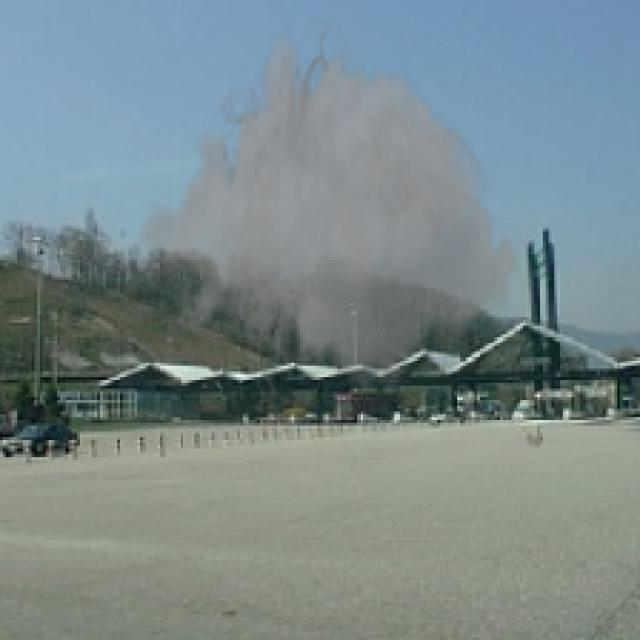Smoke: (137, 17, 520, 426)
